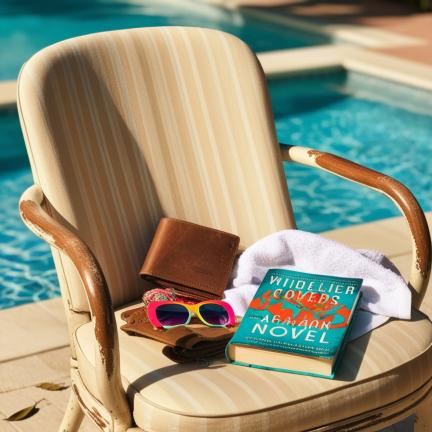occupied chair: (18, 27, 432, 432)
